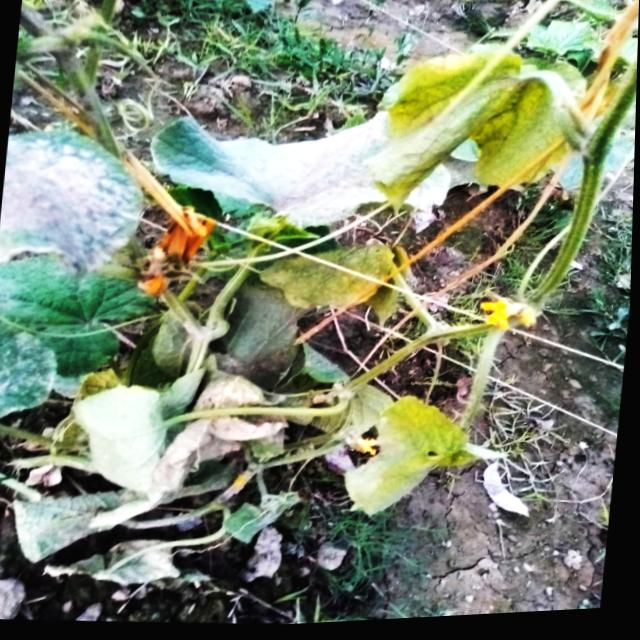Anthracnose: (262, 244, 414, 337)
Bacterial-Wilt: (363, 46, 589, 218)
